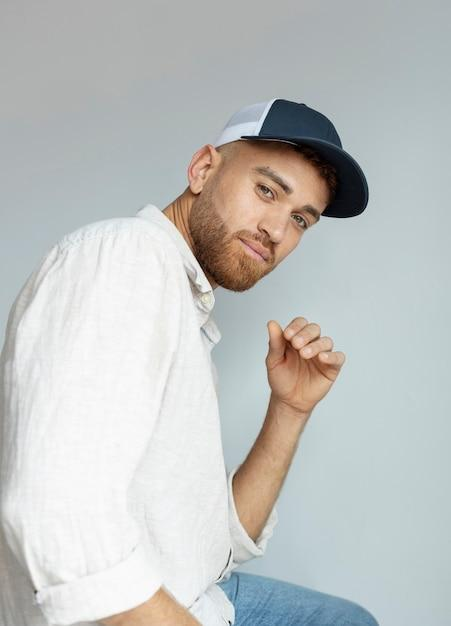cap: (193, 77, 375, 223)
